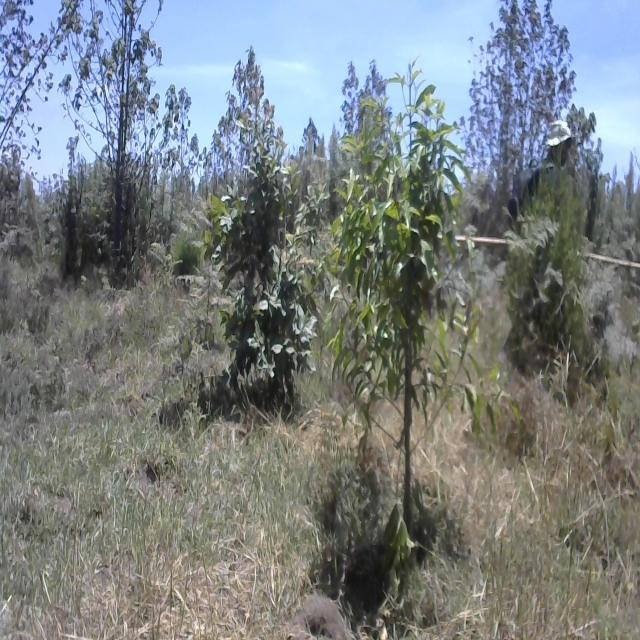Hass Avocado: (341, 86, 480, 555), (200, 71, 320, 420)
cedrus: (510, 156, 601, 361)
other: (59, 0, 183, 228), (473, 0, 598, 213), (0, 0, 55, 245), (208, 46, 277, 174)
